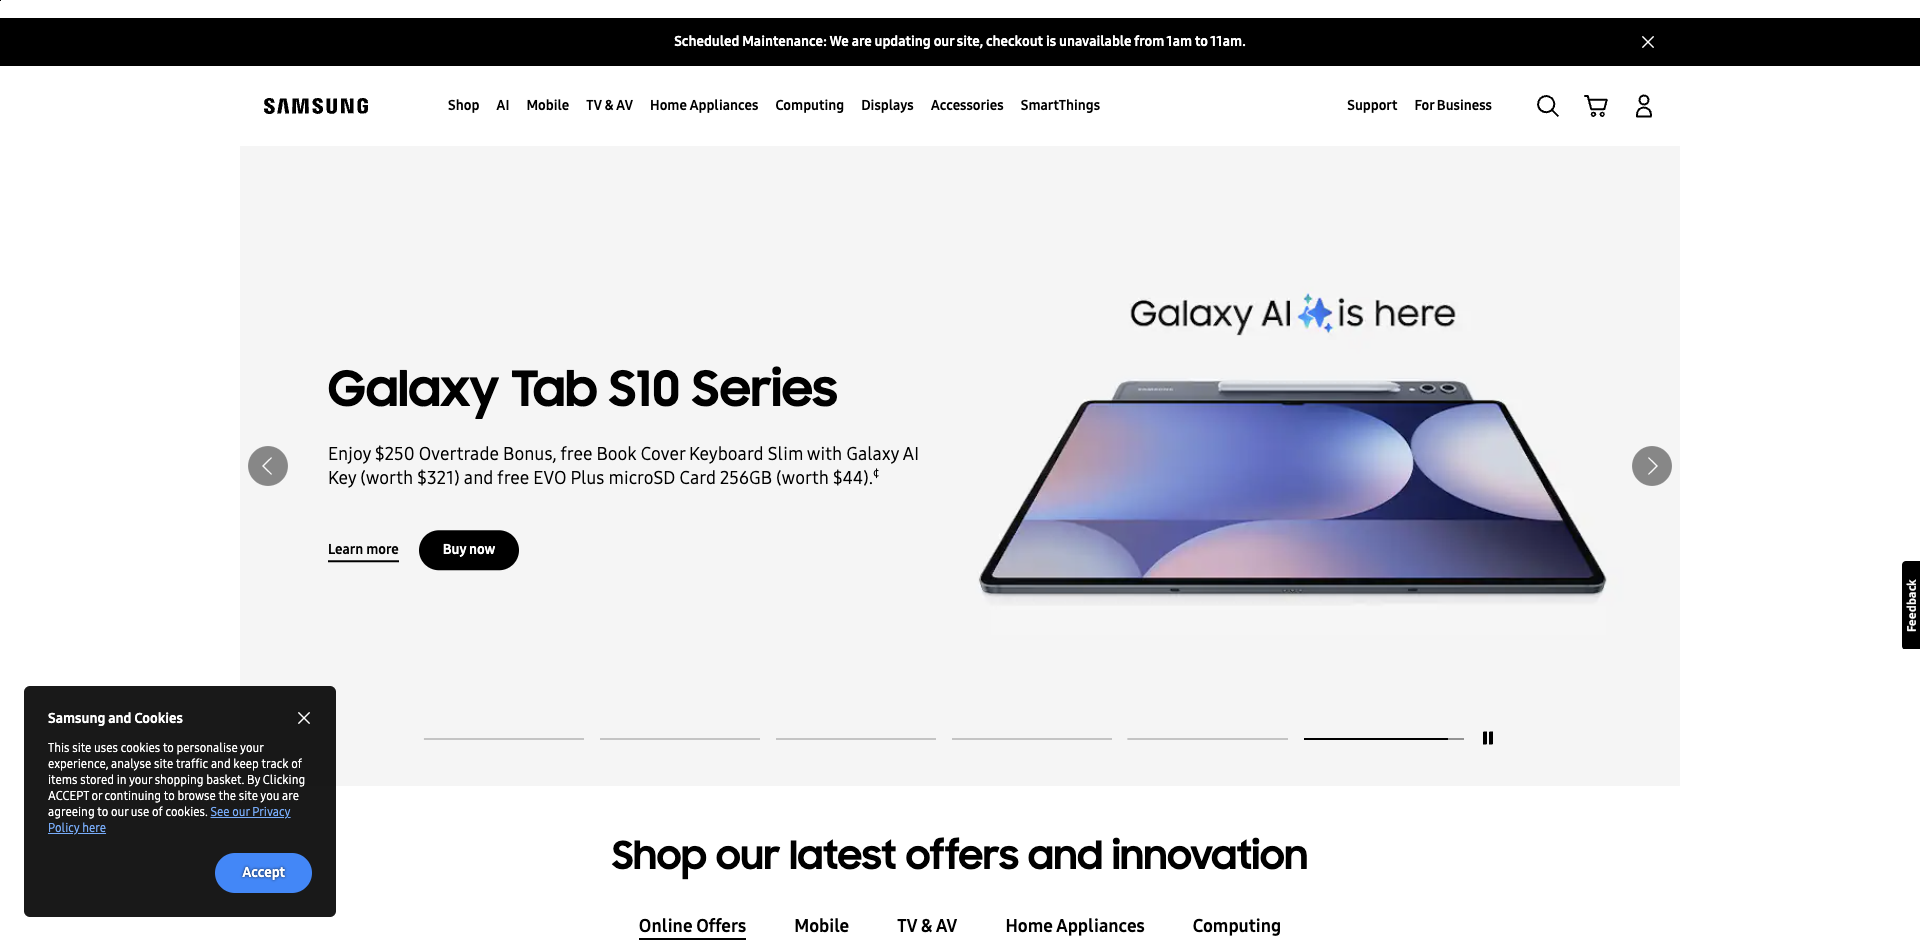button: (0, 67, 224, 104), (224, 67, 448, 104), (448, 67, 672, 104), (672, 67, 896, 104), (0, 67, 224, 104), (224, 67, 448, 104), (448, 67, 672, 104), (672, 67, 896, 104), (896, 67, 1120, 104), (1120, 67, 1344, 104), (0, 67, 224, 104), (224, 67, 448, 104), (448, 67, 672, 104), (672, 67, 896, 104), (672, 184, 896, 221), (896, 67, 1120, 104), (1120, 67, 1344, 104), (1120, 248, 1344, 284), (0, 67, 224, 104), (224, 67, 448, 104), (448, 67, 672, 104), (853, 134, 1078, 170), (1078, 134, 1302, 170), (1340, 67, 1564, 104), (1564, 67, 1788, 104), (224, 440, 448, 475), (424, 709, 584, 754), (600, 709, 760, 754), (951, 709, 1112, 754), (1128, 709, 1288, 754), (1304, 709, 1464, 754), (776, 709, 936, 754), (1788, 67, 1920, 104), (1005, 910, 1145, 941), (642, 89, 767, 123), (639, 910, 746, 941), (240, 437, 296, 494), (1624, 437, 1680, 494), (768, 89, 852, 123), (1193, 910, 1281, 941), (1840, 869, 1888, 916), (853, 89, 922, 123), (1340, 89, 1406, 123), (578, 89, 642, 123), (518, 89, 577, 123), (898, 910, 958, 941), (795, 910, 850, 941), (1528, 86, 1569, 126), (1576, 86, 1616, 126), (1624, 86, 1664, 126), (1902, 560, 1920, 648), (440, 89, 487, 123), (288, 702, 320, 734), (489, 89, 518, 123), (1636, 31, 1660, 54), (1480, 730, 1496, 746), (0, 146, 1, 147)
link: (902, 326, 1031, 470), (1042, 326, 1171, 470), (902, 482, 1031, 626), (1042, 482, 1171, 626), (902, 170, 1031, 314), (1042, 170, 1171, 314), (763, 326, 890, 470), (763, 482, 890, 626), (763, 170, 890, 314), (489, 134, 713, 170), (489, 206, 713, 243), (518, 134, 742, 170), (518, 206, 742, 243), (518, 314, 742, 350), (518, 421, 742, 458), (518, 494, 742, 531), (489, 170, 713, 206), (489, 243, 713, 278), (489, 278, 713, 314), (518, 170, 742, 206), (518, 243, 742, 278), (518, 278, 742, 314), (518, 350, 742, 386), (518, 386, 742, 421), (518, 458, 742, 494), (518, 531, 742, 566), (518, 566, 742, 602), (48, 805, 290, 836), (0, 263, 224, 297), (224, 263, 448, 297), (224, 475, 448, 508), (448, 263, 672, 297), (0, 263, 224, 297), (224, 263, 448, 297), (448, 263, 672, 297), (1120, 263, 1344, 297), (0, 263, 224, 297), (224, 263, 448, 297), (448, 263, 672, 297), (896, 263, 1120, 297), (224, 263, 448, 297), (853, 361, 1078, 395), (0, 104, 224, 136), (0, 136, 224, 168), (0, 168, 224, 200), (0, 200, 224, 232), (0, 232, 224, 263), (0, 297, 224, 328), (224, 104, 448, 136), (224, 136, 448, 168), (224, 168, 448, 200), (224, 200, 448, 232), (224, 232, 448, 263), (224, 297, 448, 328), (224, 328, 448, 360), (224, 360, 448, 392), (224, 392, 448, 424), (224, 508, 448, 540), (224, 540, 448, 572), (448, 104, 672, 136), (448, 136, 672, 168), (448, 168, 672, 200), (448, 200, 672, 232), (448, 232, 672, 263), (448, 297, 672, 328), (448, 328, 672, 360), (448, 360, 672, 392), (448, 392, 672, 424), (672, 104, 896, 136), (672, 136, 896, 168), (672, 168, 896, 200), (672, 200, 896, 232), (0, 104, 224, 136), (0, 136, 224, 168), (0, 168, 224, 200), (0, 200, 224, 232), (0, 232, 224, 263), (0, 297, 224, 328), (0, 328, 224, 360), (0, 360, 224, 392), (0, 392, 224, 424), (0, 424, 224, 456), (0, 456, 224, 488), (224, 104, 448, 136), (224, 136, 448, 168), (224, 168, 448, 200), (224, 200, 448, 232), (224, 232, 448, 263), (224, 297, 448, 328), (224, 328, 448, 360), (224, 360, 448, 392), (224, 392, 448, 424), (224, 424, 448, 456), (224, 456, 448, 488), (448, 104, 672, 136), (448, 136, 672, 168), (448, 168, 672, 200), (448, 200, 672, 232), (448, 232, 672, 263), (448, 297, 672, 328), (448, 328, 672, 360), (448, 360, 672, 392), (448, 392, 672, 424), (448, 424, 672, 456), (672, 104, 896, 136), (672, 136, 896, 168), (672, 168, 896, 200), (896, 104, 1120, 136), (896, 136, 1120, 168), (896, 168, 1120, 200), (1120, 104, 1344, 136), (1120, 136, 1344, 168), (1120, 168, 1344, 200), (1120, 200, 1344, 232), (1120, 232, 1344, 263), (1120, 297, 1344, 328), (1120, 328, 1344, 360), (1120, 360, 1344, 392), (1120, 392, 1344, 424), (1120, 424, 1344, 456), (0, 104, 224, 136), (0, 136, 224, 168), (0, 168, 224, 200), (0, 200, 224, 232), (0, 232, 224, 263), (0, 297, 224, 328), (0, 328, 224, 360), (0, 360, 224, 392), (0, 392, 224, 424), (0, 424, 224, 456), (224, 104, 448, 136), (224, 136, 448, 168), (224, 168, 448, 200), (224, 200, 448, 232), (224, 232, 448, 263), (224, 297, 448, 328), (224, 328, 448, 360), (224, 360, 448, 392), (448, 104, 672, 136), (448, 136, 672, 168), (448, 168, 672, 200), (448, 200, 672, 232), (448, 232, 672, 263), (448, 297, 672, 328), (448, 328, 672, 360), (448, 360, 672, 392), (672, 104, 896, 136), (672, 136, 896, 168), (672, 221, 896, 252), (672, 252, 896, 284), (672, 284, 896, 316), (672, 316, 896, 348), (672, 348, 896, 380), (672, 380, 896, 412), (896, 104, 1120, 136), (896, 136, 1120, 168), (896, 168, 1120, 200), (896, 200, 1120, 232), (896, 232, 1120, 263), (896, 297, 1120, 328), (896, 328, 1120, 360), (1120, 104, 1344, 136), (1120, 136, 1344, 168), (1120, 168, 1344, 200), (1120, 200, 1344, 232), (1120, 284, 1344, 316), (0, 104, 224, 136), (0, 136, 224, 168), (0, 168, 224, 200), (0, 200, 224, 232), (0, 232, 224, 263), (224, 104, 448, 136), (224, 136, 448, 168), (224, 168, 448, 200), (224, 200, 448, 232), (224, 232, 448, 263), (224, 297, 448, 328), (224, 328, 448, 360), (224, 360, 448, 392), (448, 104, 672, 136), (448, 136, 672, 168), (448, 168, 672, 200), (448, 200, 672, 232), (448, 232, 672, 263), (853, 170, 1078, 202), (853, 202, 1078, 234), (853, 234, 1078, 266), (853, 266, 1078, 298), (853, 298, 1078, 330), (853, 330, 1078, 361), (853, 395, 1078, 426), (853, 426, 1078, 458), (1078, 170, 1302, 202), (1078, 202, 1302, 234), (1078, 234, 1302, 266), (1340, 104, 1564, 136), (1340, 136, 1564, 168), (1340, 168, 1564, 200), (1340, 200, 1564, 232), (1340, 232, 1564, 263), (1564, 104, 1788, 136), (1564, 136, 1788, 168), (1564, 168, 1788, 200), (1564, 200, 1788, 232), (1564, 232, 1788, 263), (328, 548, 437, 588), (328, 518, 437, 559), (1788, 104, 1920, 136), (1788, 136, 1920, 168), (1788, 168, 1920, 200), (419, 531, 519, 571), (419, 518, 519, 559), (419, 518, 519, 559), (419, 531, 519, 571), (419, 518, 519, 559), (256, 89, 376, 123), (419, 560, 519, 599), (216, 853, 312, 893), (1013, 89, 1108, 123), (1407, 89, 1500, 123), (923, 89, 1011, 123), (328, 531, 399, 571), (328, 518, 399, 559), (328, 518, 399, 559), (328, 531, 399, 571), (328, 518, 399, 559), (328, 560, 399, 599), (0, 0, 1, 1), (0, 0, 1, 1)
